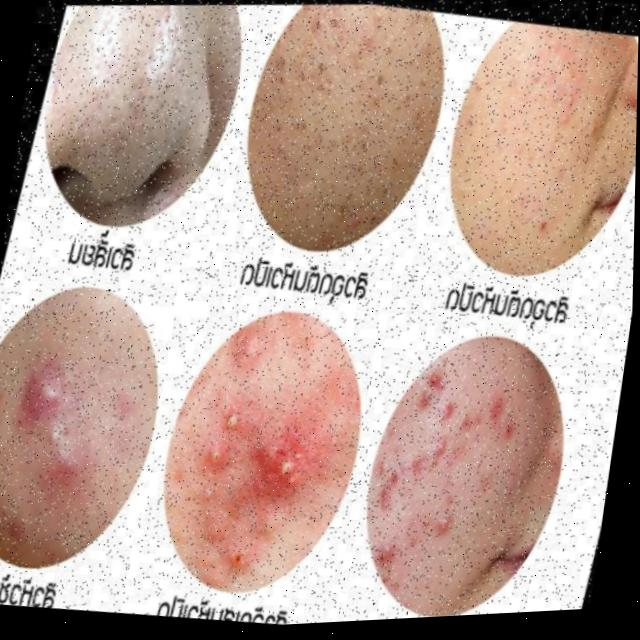Acne: (349, 396, 503, 562), (198, 331, 334, 505), (42, 336, 125, 479)
